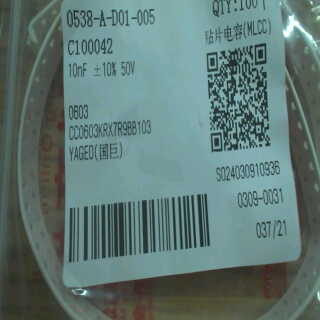10nF: (67, 60, 88, 84)
